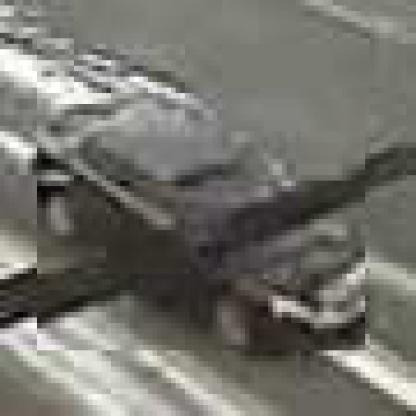car: (38, 99, 371, 357)
